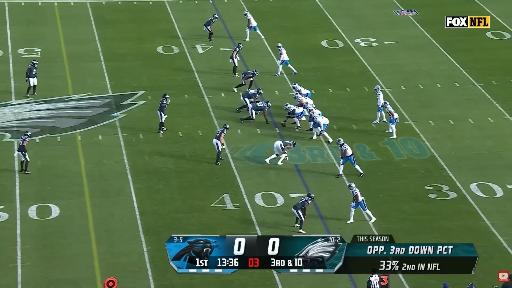Helmet: (307, 193, 315, 202), (162, 93, 170, 101), (276, 42, 283, 50), (257, 87, 263, 95), (221, 124, 229, 130), (348, 183, 355, 189), (33, 60, 39, 67), (238, 42, 245, 48), (265, 101, 272, 107), (307, 107, 314, 113), (375, 86, 382, 92), (337, 138, 343, 144), (253, 70, 259, 76), (292, 83, 299, 88), (294, 92, 299, 99), (383, 102, 390, 107), (291, 140, 295, 148), (212, 14, 218, 19), (244, 11, 249, 16), (284, 104, 289, 109), (25, 132, 31, 136)
Jersey: (295, 197, 311, 209), (18, 136, 29, 152), (242, 89, 259, 99), (340, 143, 353, 156), (351, 188, 363, 202), (287, 105, 303, 115), (251, 102, 268, 111), (215, 128, 227, 140), (158, 99, 168, 113), (386, 107, 398, 118), (246, 14, 257, 26), (230, 47, 241, 59), (27, 65, 37, 78), (279, 47, 289, 60), (376, 91, 384, 107), (296, 86, 310, 95), (298, 97, 313, 105), (314, 116, 328, 124), (204, 18, 215, 26), (242, 71, 254, 77), (282, 141, 292, 147), (314, 108, 322, 115)
Player: (347, 183, 375, 223), (336, 138, 363, 177), (292, 192, 314, 233), (294, 92, 314, 130), (265, 141, 296, 165), (275, 43, 297, 76), (240, 101, 271, 123), (213, 124, 229, 165), (237, 88, 263, 113), (244, 11, 264, 41), (311, 115, 332, 143), (282, 104, 305, 129), (18, 131, 31, 174), (233, 70, 258, 92), (373, 86, 386, 123), (385, 102, 398, 138), (26, 60, 38, 97), (305, 105, 322, 131), (158, 94, 169, 133), (230, 43, 243, 76), (204, 14, 218, 42), (293, 92, 314, 107), (292, 83, 311, 98)
